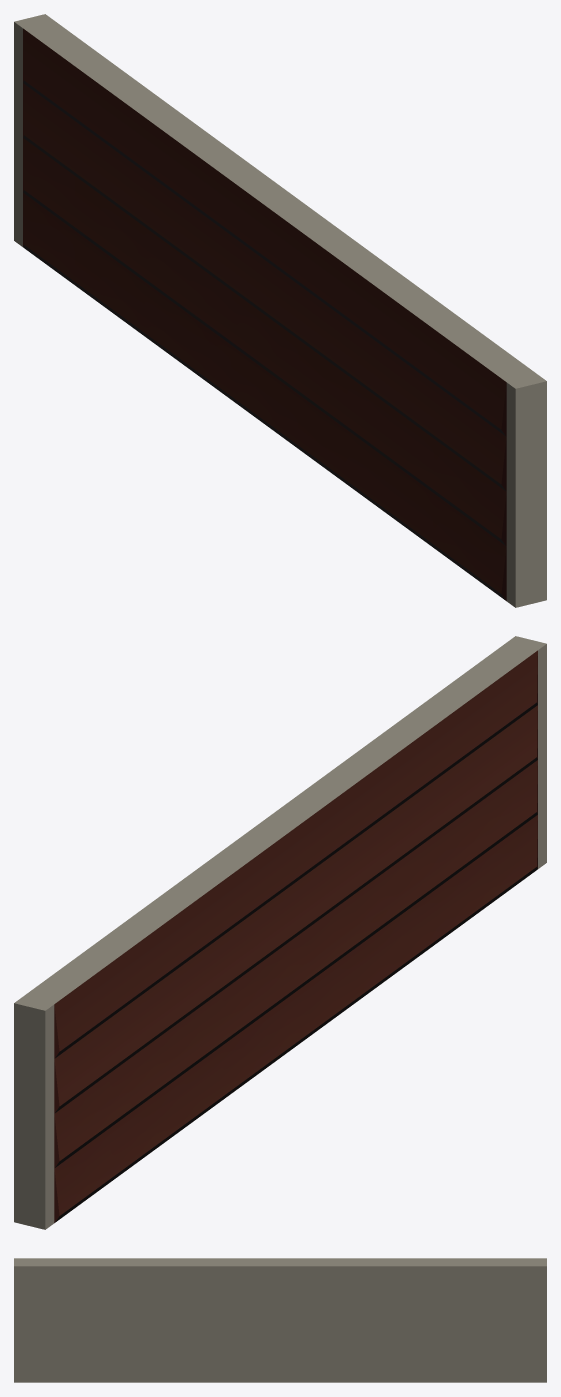
The model's file is TSP_House_Wall_Rail_02A.fbx.
The picture shows the model from 3 angles, top to bottom: view 1: azimuth 30°, elevation 25°; view 2: azimuth 150°, elevation 25°; view 3: azimuth 270°, elevation 25°; orthographic projection. The views are drawn at different scales.
Visible parts, largest first — view 1: TSP_House_Wall_Rail_02A; view 2: TSP_House_Wall_Rail_02A; view 3: TSP_House_Wall_Rail_02A.
Part boxes in pixels (x1,y1,x2,y2): TSP_House_Wall_Rail_02A: [14, 14, 546, 607]; TSP_House_Wall_Rail_02A: [14, 636, 546, 1229]; TSP_House_Wall_Rail_02A: [14, 1258, 546, 1382].
Bounding box in the file's own units: 16 × 100 × 415.
